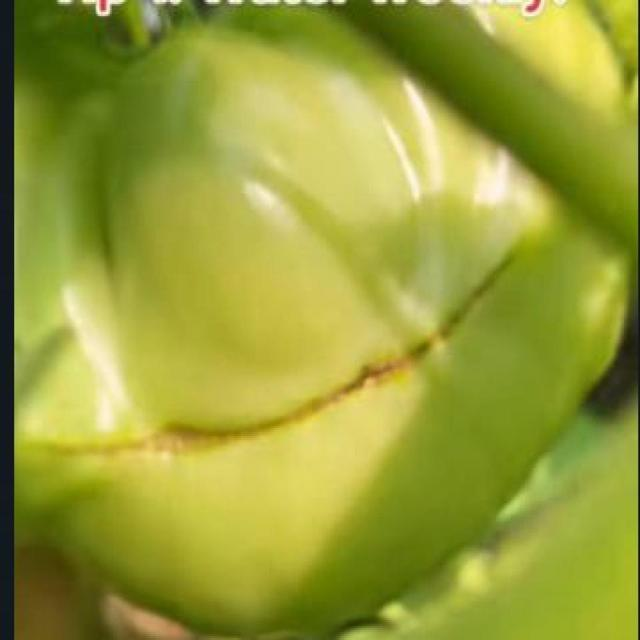Cracking Fruit: (6, 134, 360, 346)
